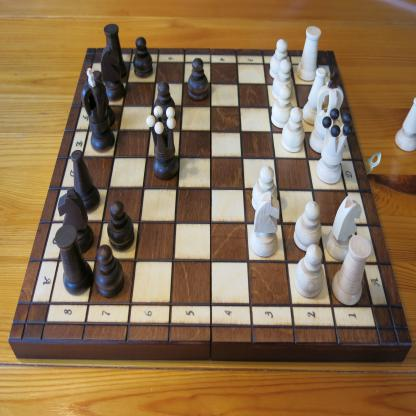black-bishop: (70, 149, 101, 213), (92, 70, 115, 129)
black-king: (80, 67, 116, 154)
black-knight: (57, 187, 94, 254), (100, 45, 126, 102)
black-pawn: (94, 244, 125, 299), (106, 200, 135, 253), (187, 57, 209, 102), (154, 80, 176, 124), (133, 36, 153, 80)
black-queen: (146, 105, 179, 181)
black-rook: (54, 224, 94, 296), (103, 23, 127, 78)
white-bishop: (302, 67, 326, 126), (394, 96, 415, 153)
white-king: (309, 69, 344, 154)
white-knight: (325, 194, 363, 261), (249, 190, 280, 258)
white-pawn: (294, 244, 324, 300), (293, 200, 322, 253), (251, 165, 278, 212), (282, 107, 307, 153), (271, 84, 293, 129), (271, 59, 294, 101), (269, 38, 289, 80)
white-queen: (316, 107, 352, 184)
white-rook: (331, 234, 372, 307), (296, 25, 322, 82)
